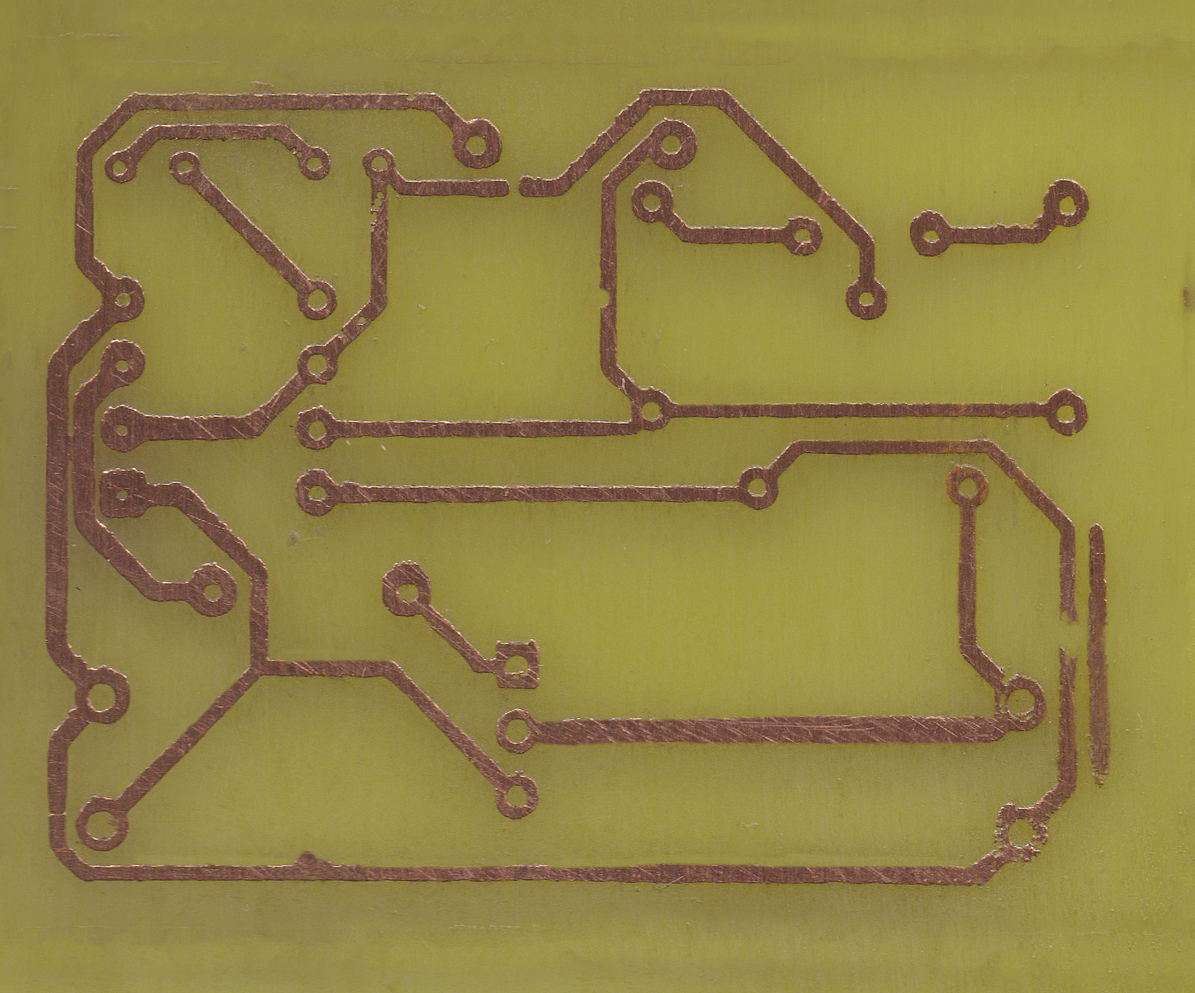missing_hole: (989, 802, 1051, 865)
mouse_bite: (359, 187, 394, 242), (591, 275, 621, 317), (398, 87, 423, 110)
open_circuit: (1051, 596, 1081, 675), (502, 173, 526, 203)
short: (50, 419, 96, 464)
spur: (287, 844, 329, 883)
spurious_copper: (1084, 517, 1117, 787)
